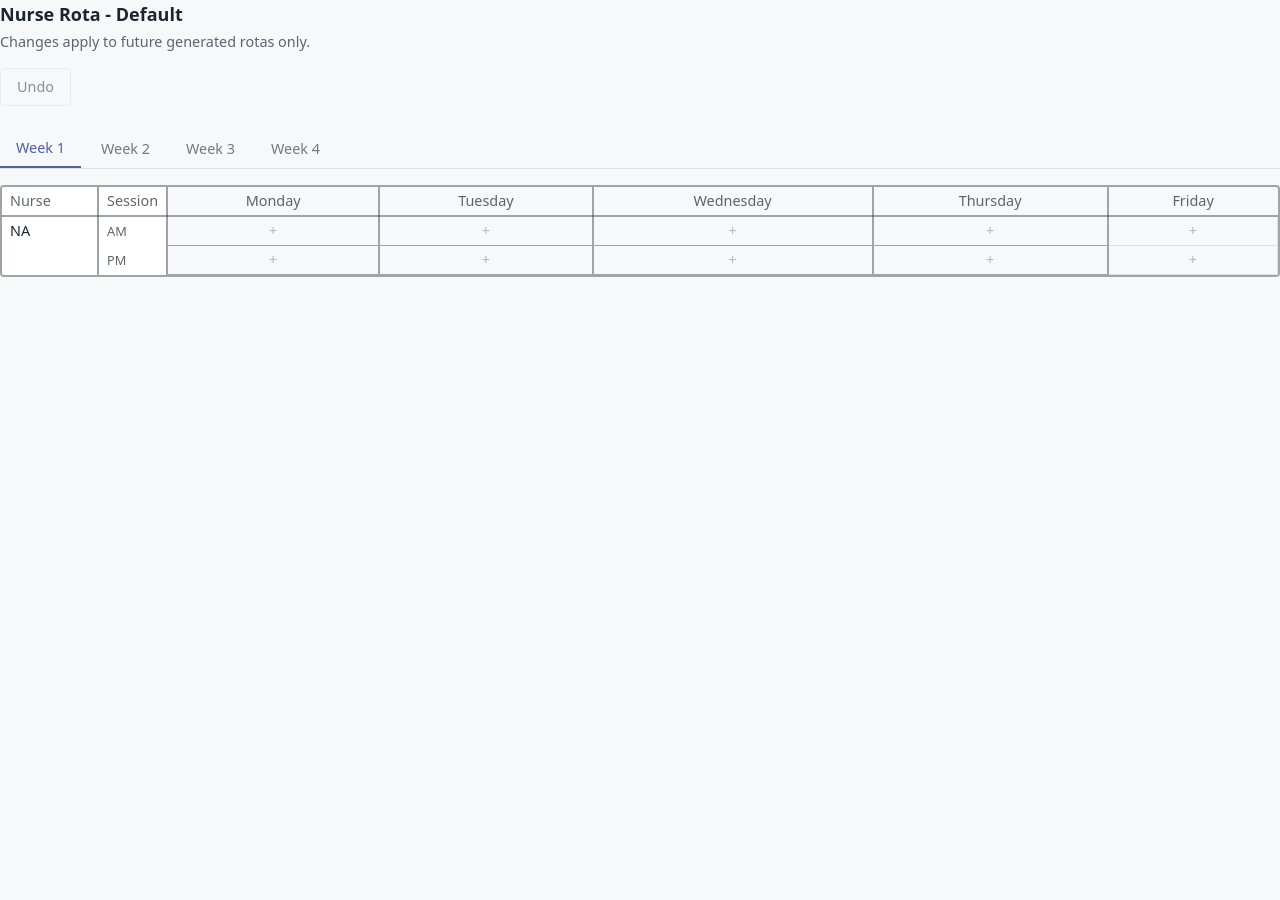
Test: NurseRotaPage: undo › undoes a created session by DELETEing the row the POST returned
This screenshot has width=1280, height=900.
Click the button named "Add session for NA Monday AM".
click(273, 231)  # box [176,221,370,241]
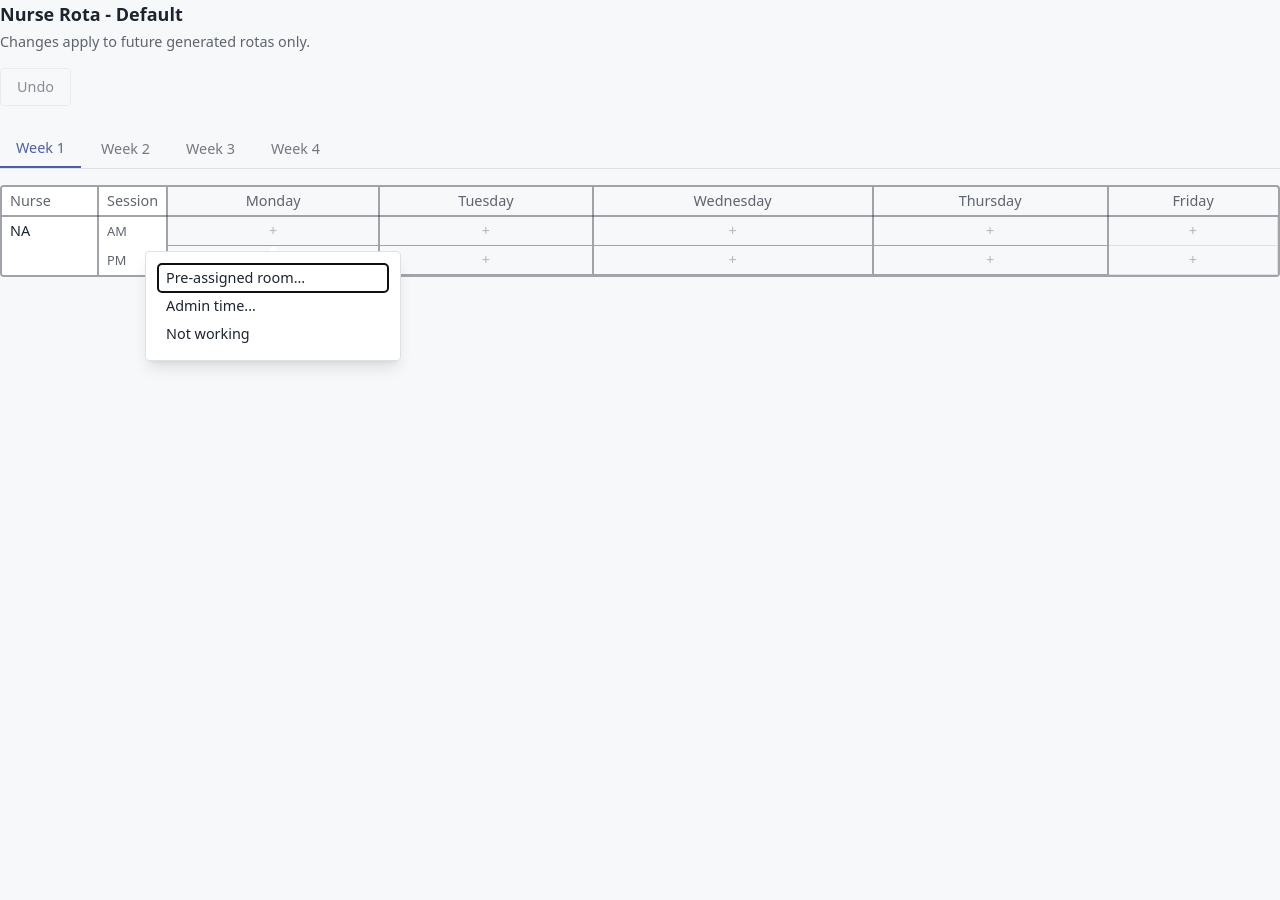
Click the button "Admin time...".
click(273, 306)  # box [158,292,388,320]
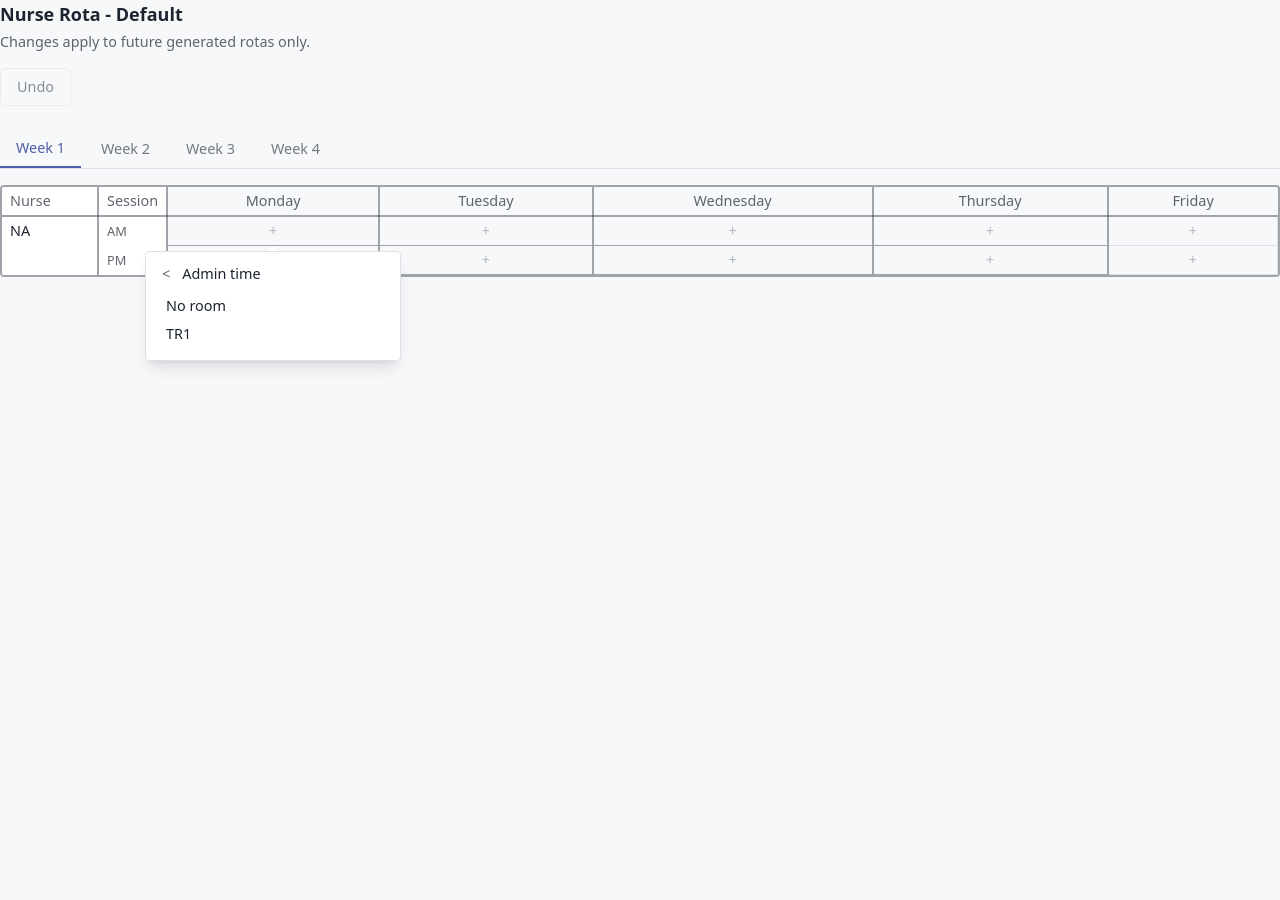
Click the button "No room".
click(273, 306)  # box [158,292,388,320]
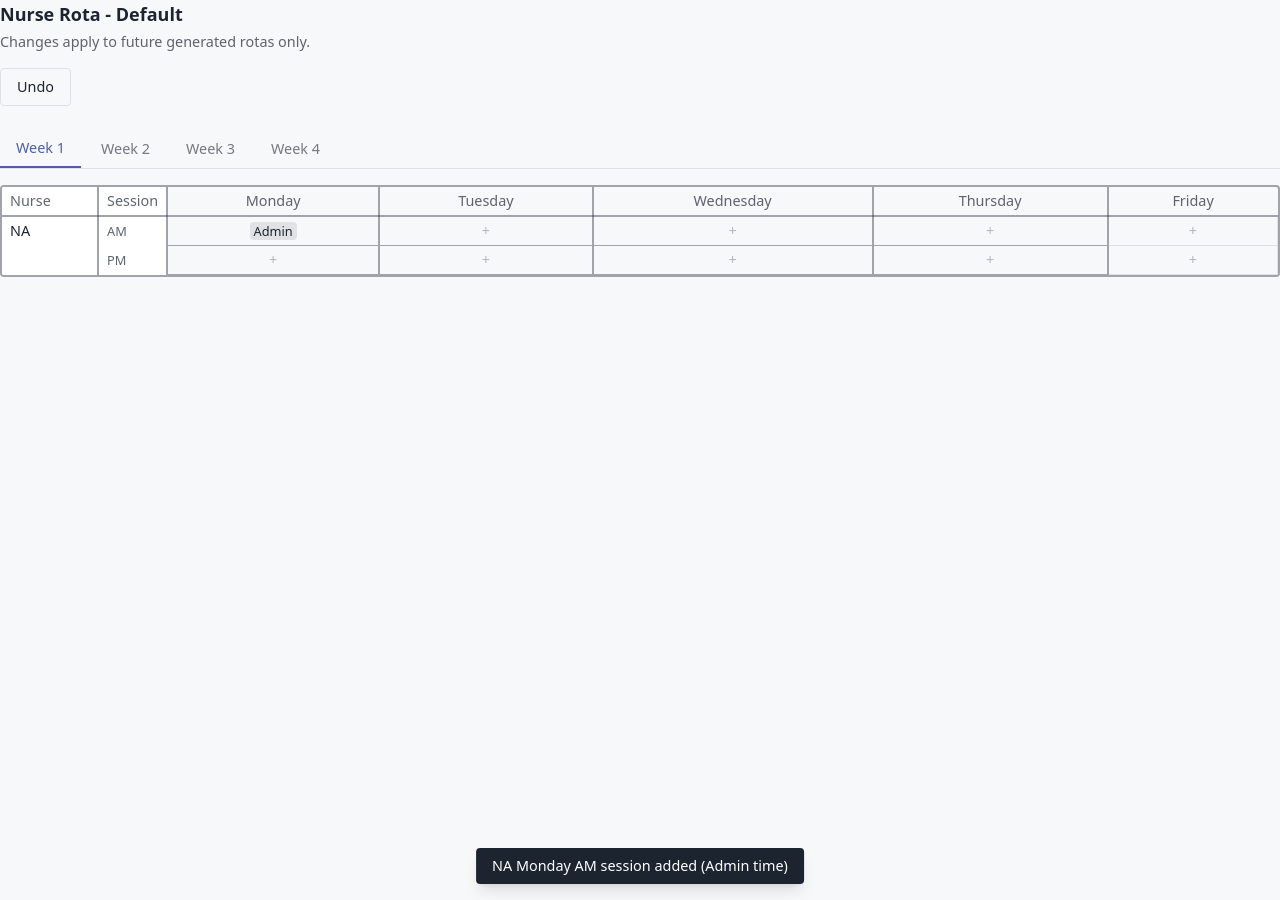
Expected: the text "NA Monday AM session added (Admin time)" is shown, [476,848,804,884]
Click the button "Undo".
click(36, 87)  # box [0,68,71,106]
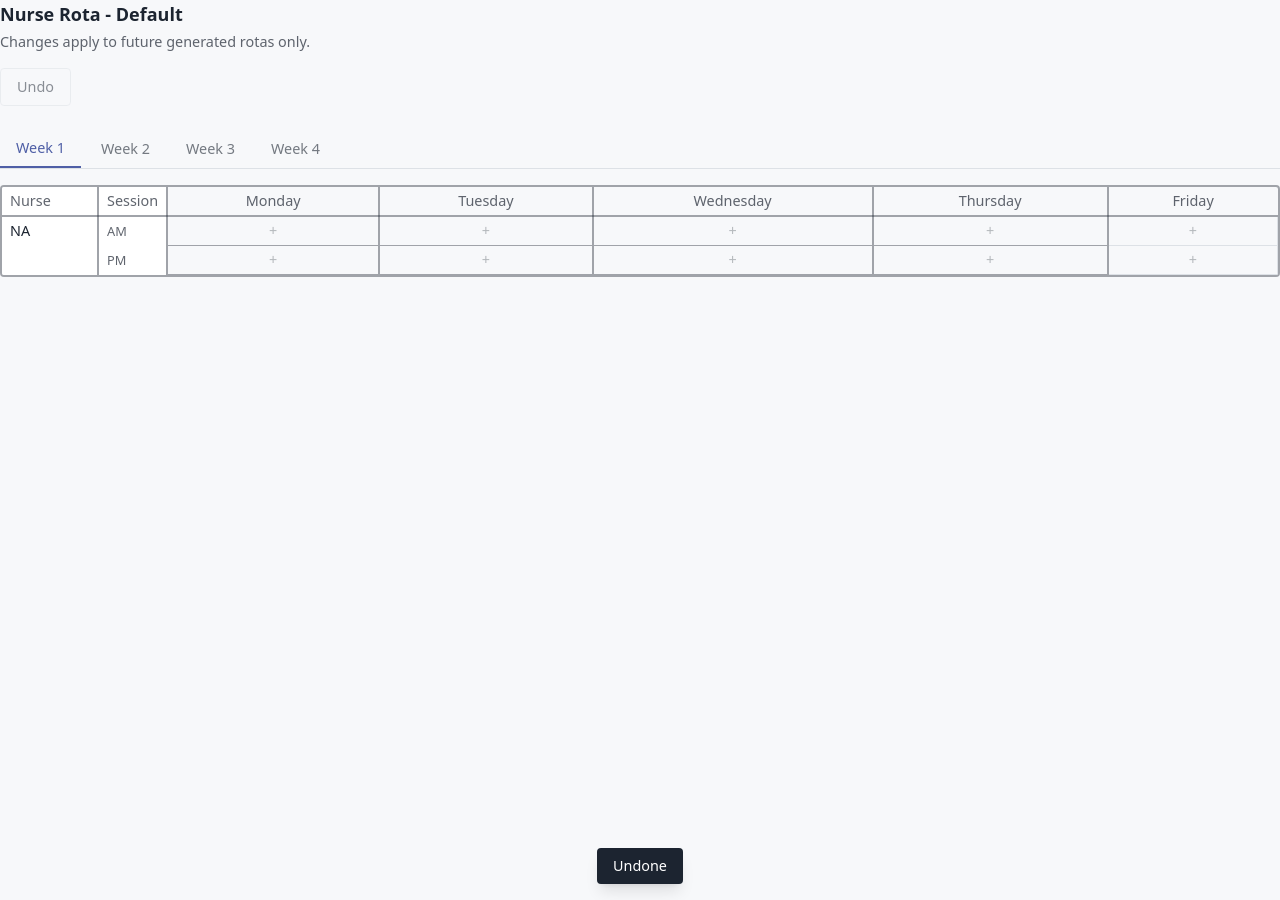
Expected: the text "Undone" is shown, [597,848,683,884]
